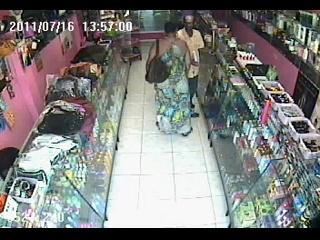Normal: (145, 21, 193, 138), (177, 15, 205, 116), (145, 39, 173, 84)
